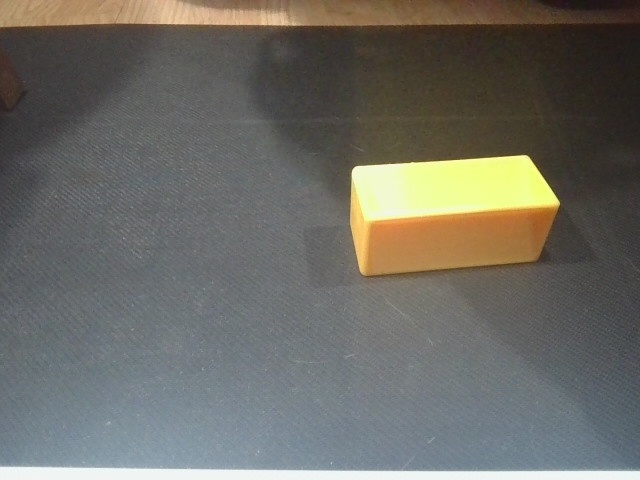YellowSample: (346, 154, 561, 279)
